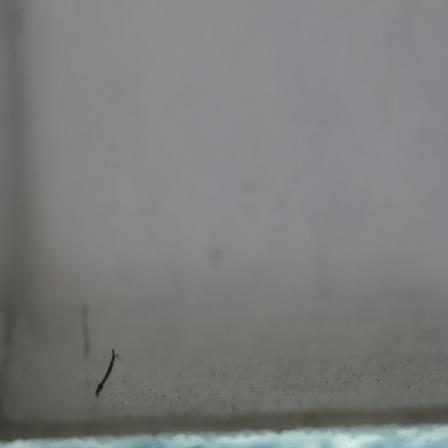Jentik-Nyamuk: (89, 343, 123, 401)
